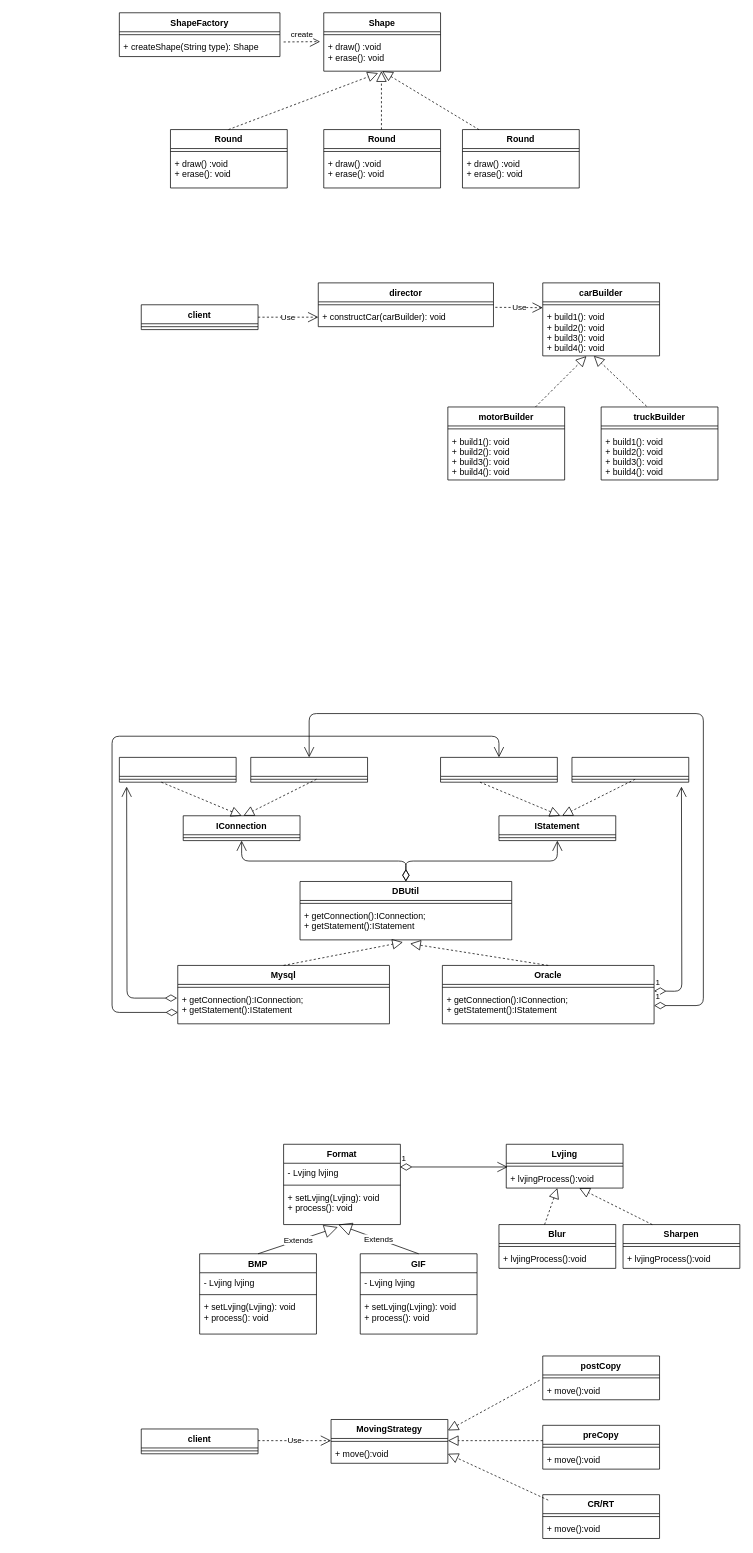
The diagram is 753 pixels wide and 1553 high, and some of its shapes have lost their labels. The shapes that lost their labels are listed below. From the top down, each one's centre as x and y in pixels, then its label:
the point at 177,769: MysqlConnection
the point at 309,769: OracleConnection
the point at 498,769: MysqlStatement
the point at 630,769: OracleStatement
